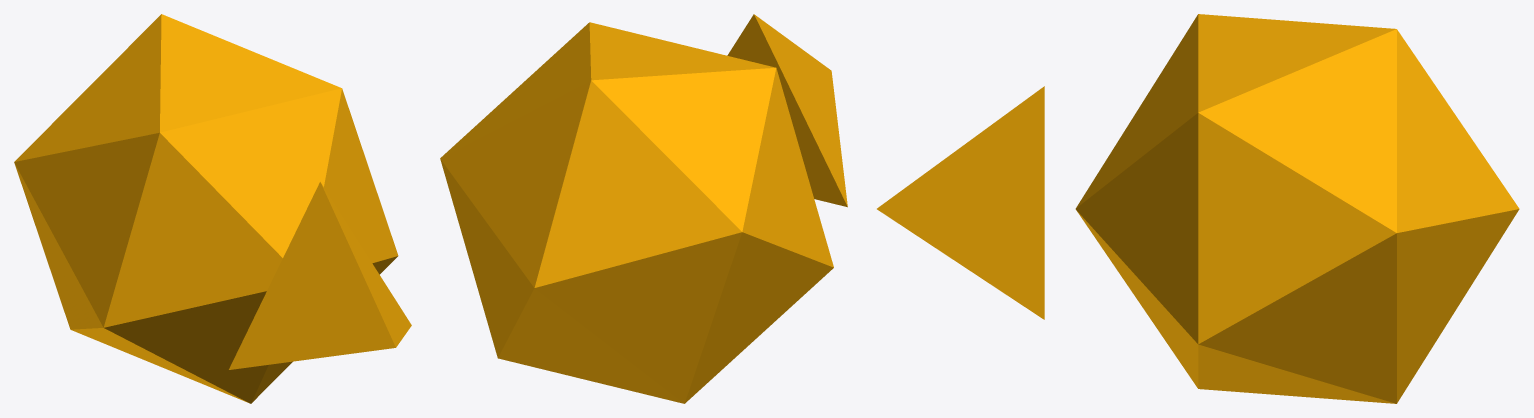
The model's file is BeatCannon.fbx.
3 views of the same model, side by side, from view 1: azimuth 30°, elevation 25°; view 2: azimuth 150°, elevation 25°; view 3: azimuth 270°, elevation 25° (orthographic). The views are drawn at different scales.
Visible parts, largest first — view 1: Icosphere, Head; view 2: Icosphere, Head; view 3: Icosphere, Head.
Part boxes in pixels (x1,y1,x2,y2): Icosphere: (14,14,398,403); Head: (229,182,411,369); Icosphere: (440,22,833,403); Head: (727,14,847,207); Icosphere: (1075,14,1519,403); Head: (877,86,1044,319).
Size of the model in its own units: 1.31 by 1.37 by 2.22.
